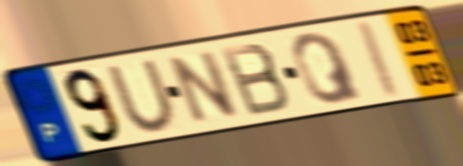9: (59, 66, 123, 144)
B: (217, 40, 294, 120)
I: (356, 17, 405, 102)
N: (166, 47, 242, 128)
Q: (289, 29, 367, 107)
U: (103, 56, 183, 135)
